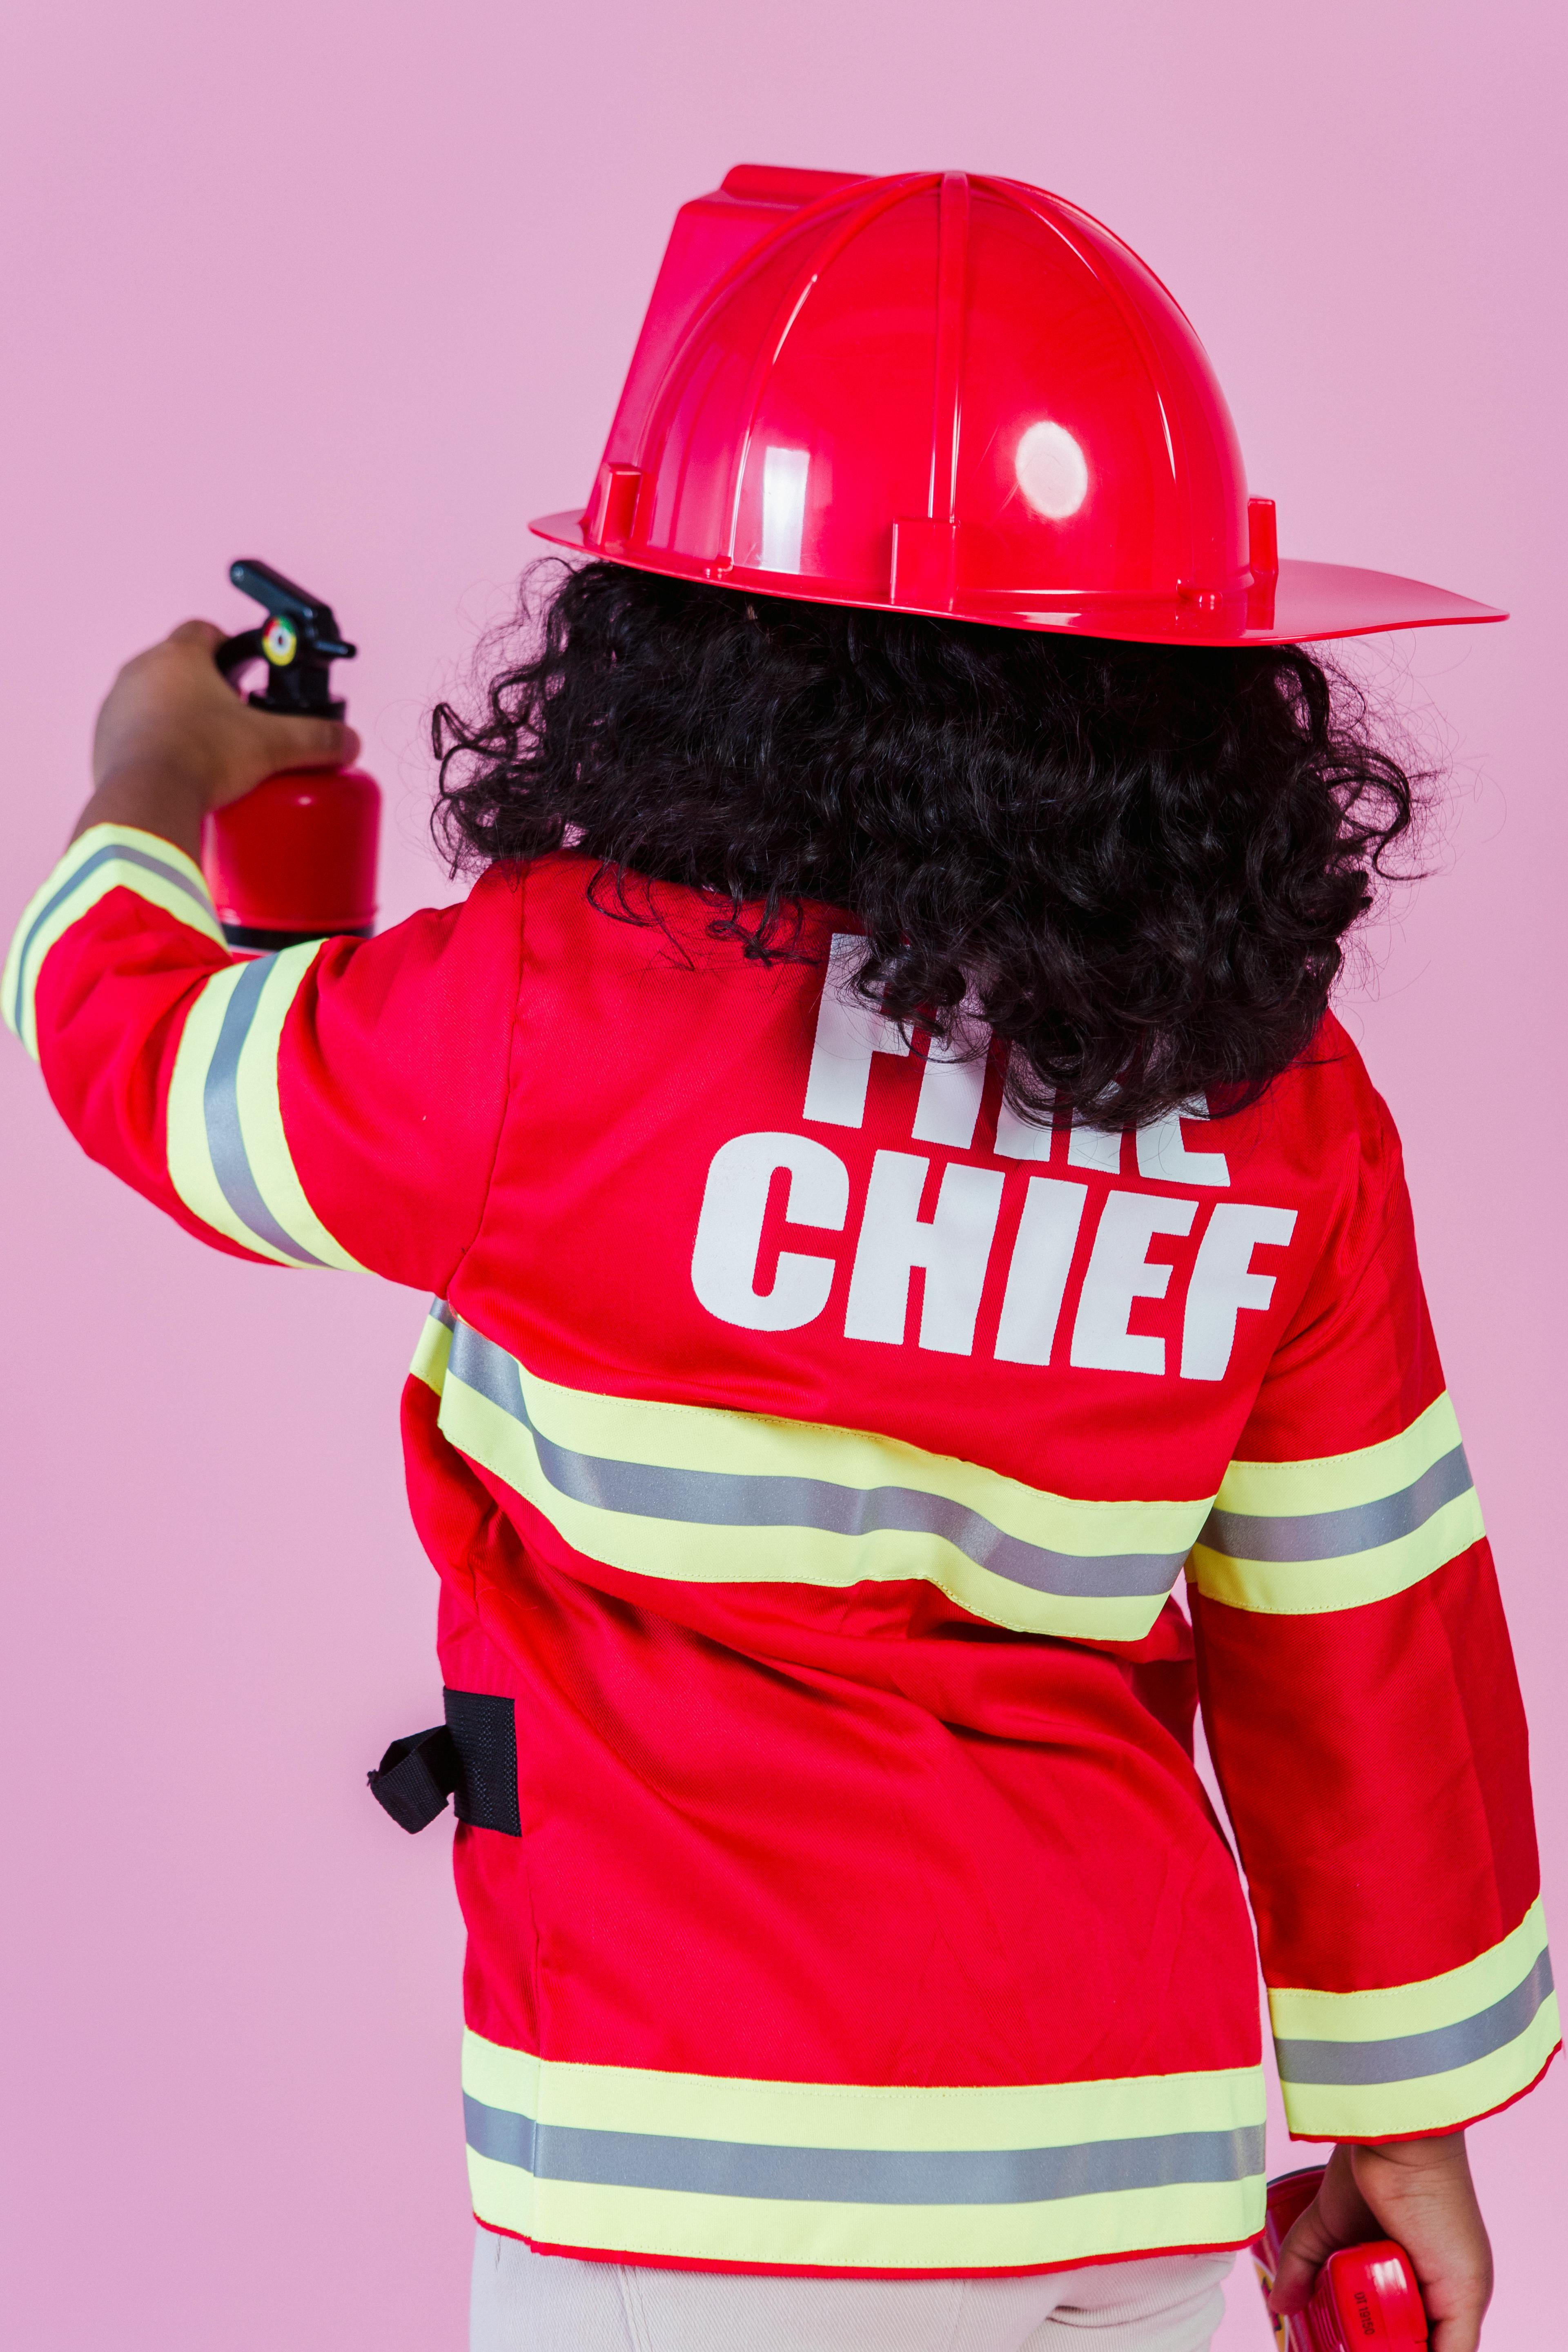extintor: (196, 551, 381, 971)
